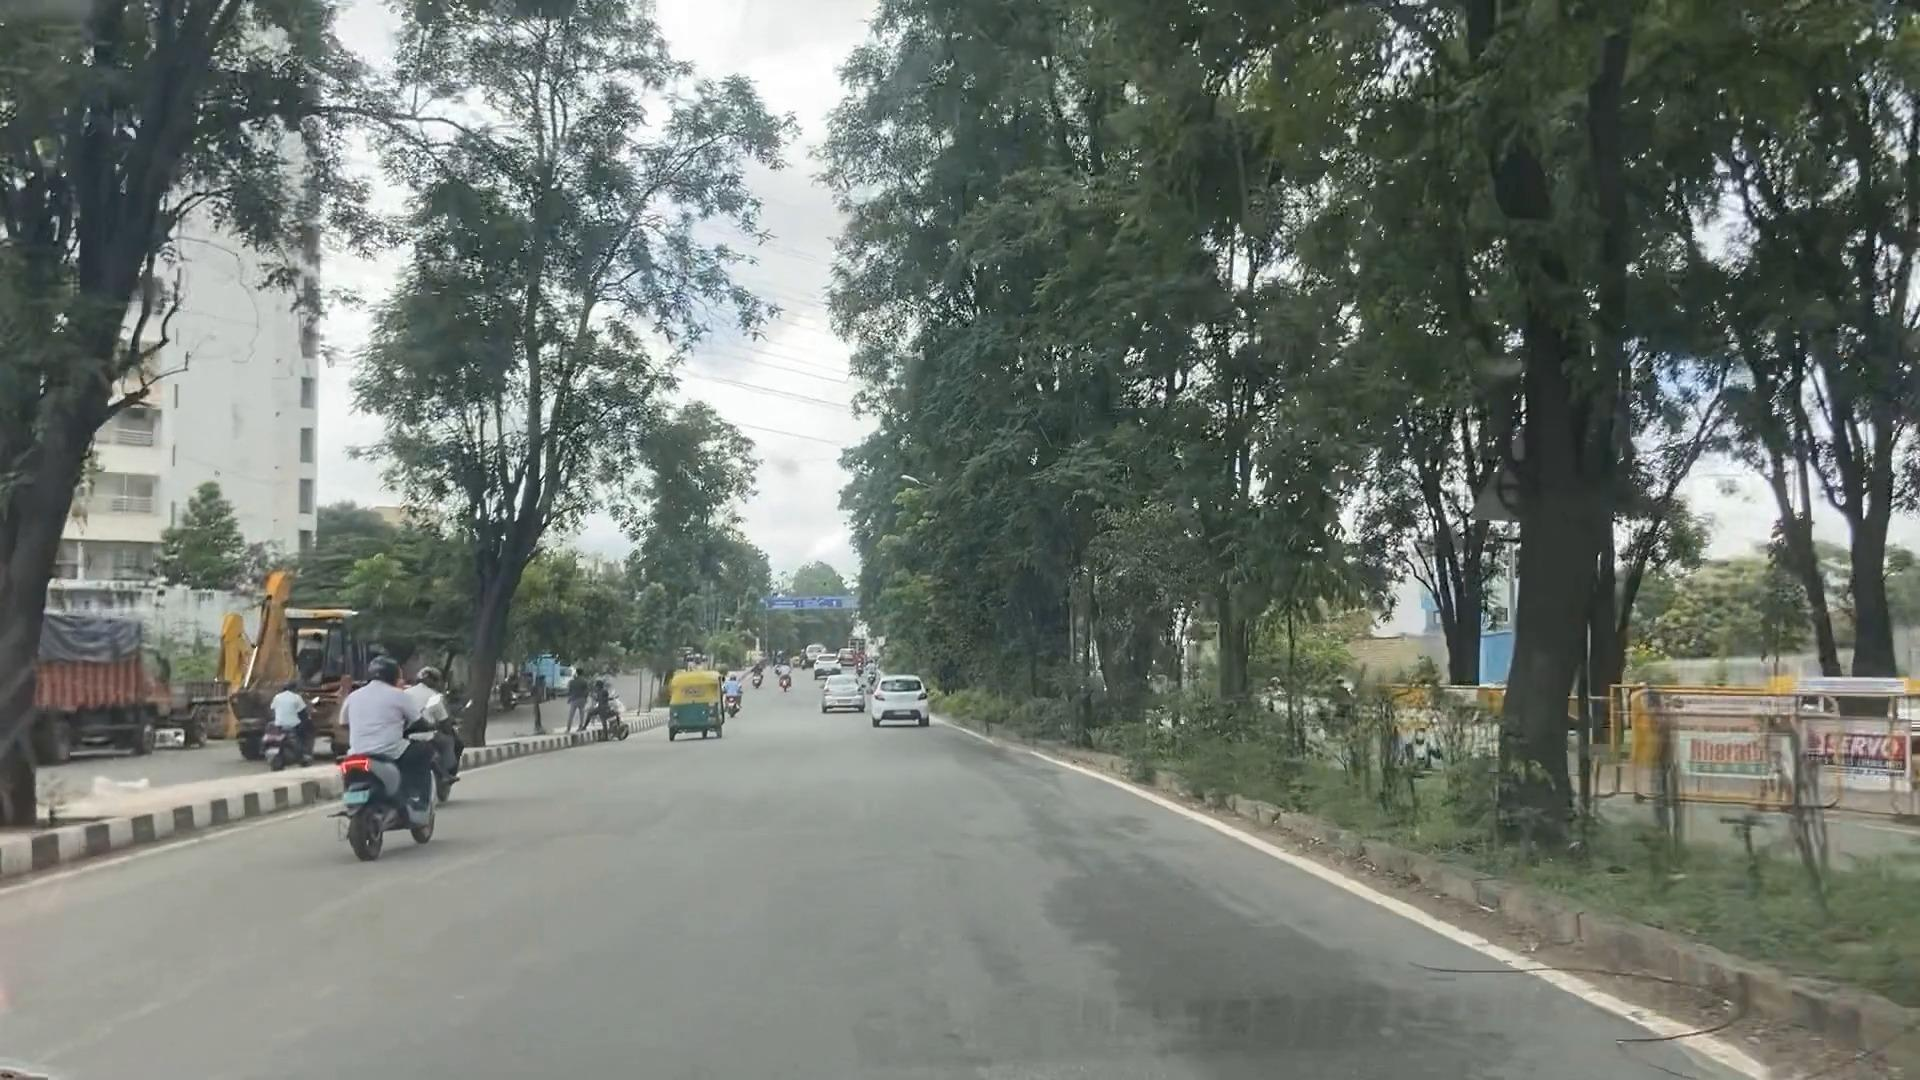LMV: (338, 654, 431, 833), (668, 662, 725, 737), (882, 672, 930, 718), (816, 672, 867, 712)
RoadDamages: (980, 808, 1185, 914), (1213, 976, 1424, 1072), (896, 974, 1041, 1072), (1132, 930, 1348, 976), (1447, 1004, 1532, 1073)
